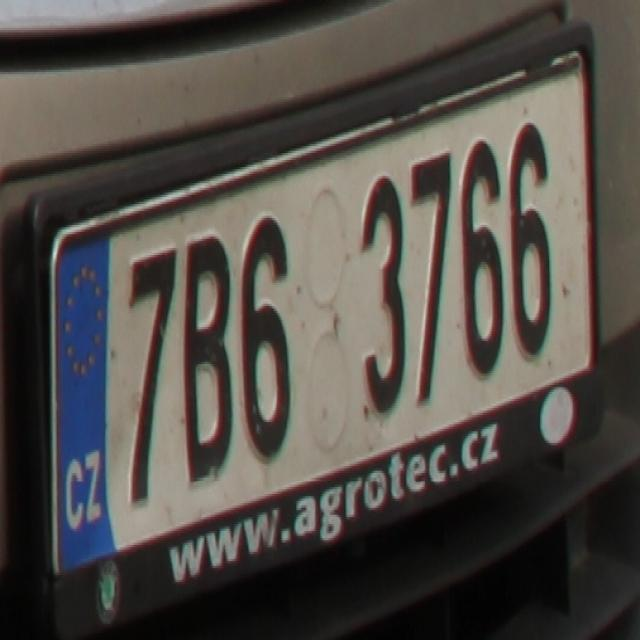3: (360, 174, 404, 418)
6: (239, 216, 292, 462), (462, 139, 506, 373), (510, 123, 554, 355)
7: (124, 246, 171, 508), (408, 148, 456, 399)
B: (180, 234, 236, 489)
